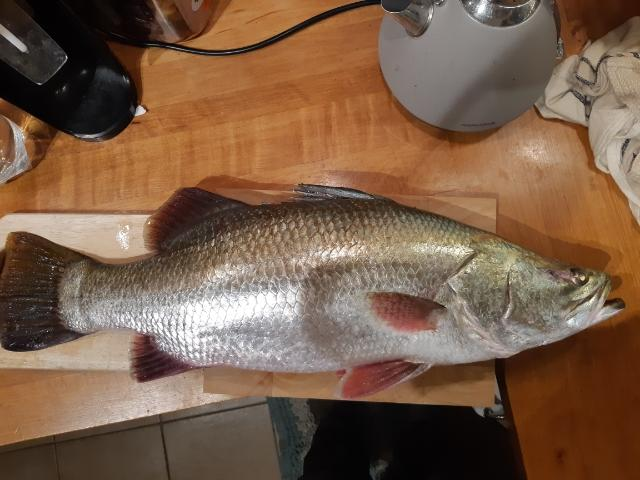Mulut: (559, 252, 639, 354)
Sirip Anal: (120, 318, 212, 398)
Sirip Dada: (353, 268, 459, 342)
Sirip Ekor: (0, 222, 108, 374)
Sirip Perut: (326, 352, 442, 415)
Sirip Punggung: (133, 170, 395, 262)
